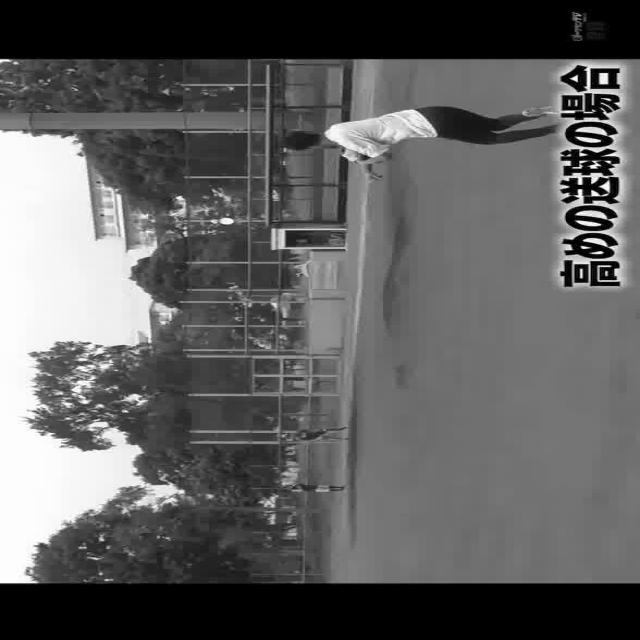baseball: (210, 218, 218, 223)
baseball_glove: (346, 148, 370, 161)
shoe: (519, 102, 569, 114)
